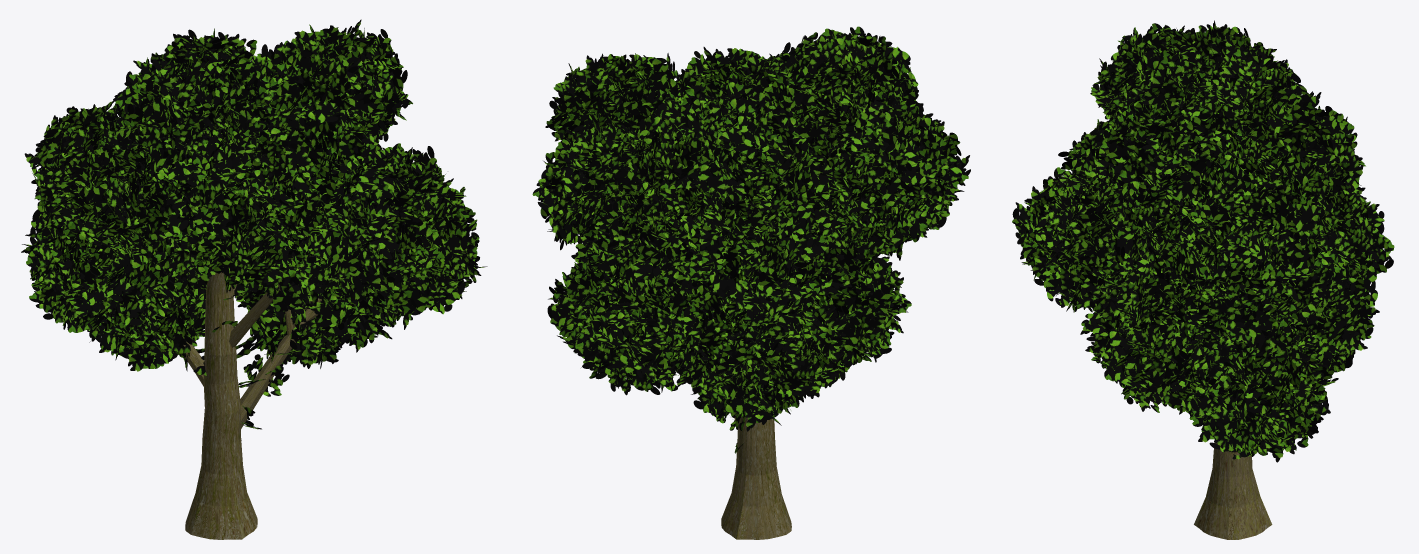
Rendered from oak_broadleaf_v01.fbx.
3 views of the same model, side by side, from view 1: azimuth 30°, elevation 25°; view 2: azimuth 150°, elevation 25°; view 3: azimuth 270°, elevation 25° (orthographic). The views are drawn at different scales.
Visible parts, largest first — view 1: oak_broadleaf_v01; view 2: oak_broadleaf_v01; view 3: oak_broadleaf_v01.
Part boxes in pixels (x1,y1,x2,y2): oak_broadleaf_v01: [21, 19, 487, 539]; oak_broadleaf_v01: [532, 26, 970, 539]; oak_broadleaf_v01: [1012, 20, 1394, 539].
Bounding box in the file's own units: 1524 × 1277 × 1719.
2 materials, 2 textured.
